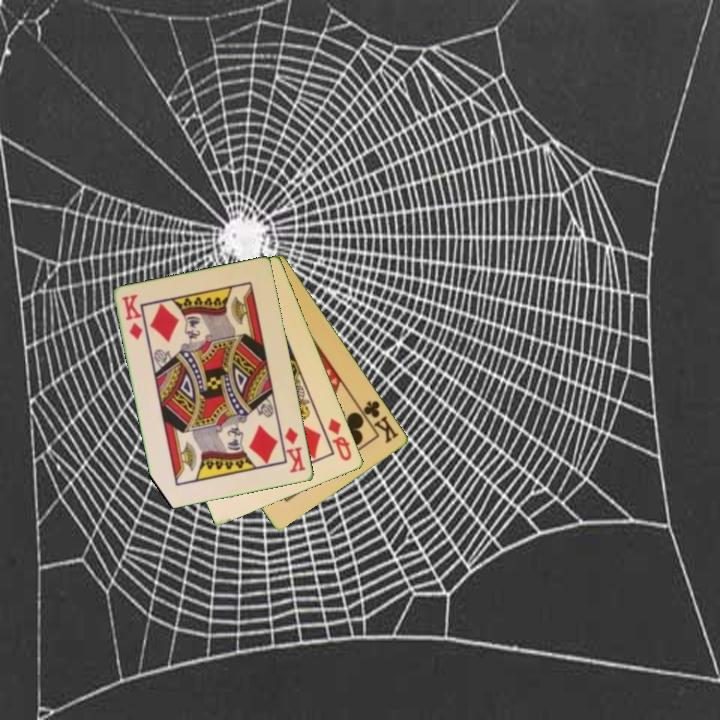Kc: (355, 397, 402, 446)
Kd: (282, 424, 309, 476), (119, 291, 146, 343)
Qd: (325, 415, 355, 464)
